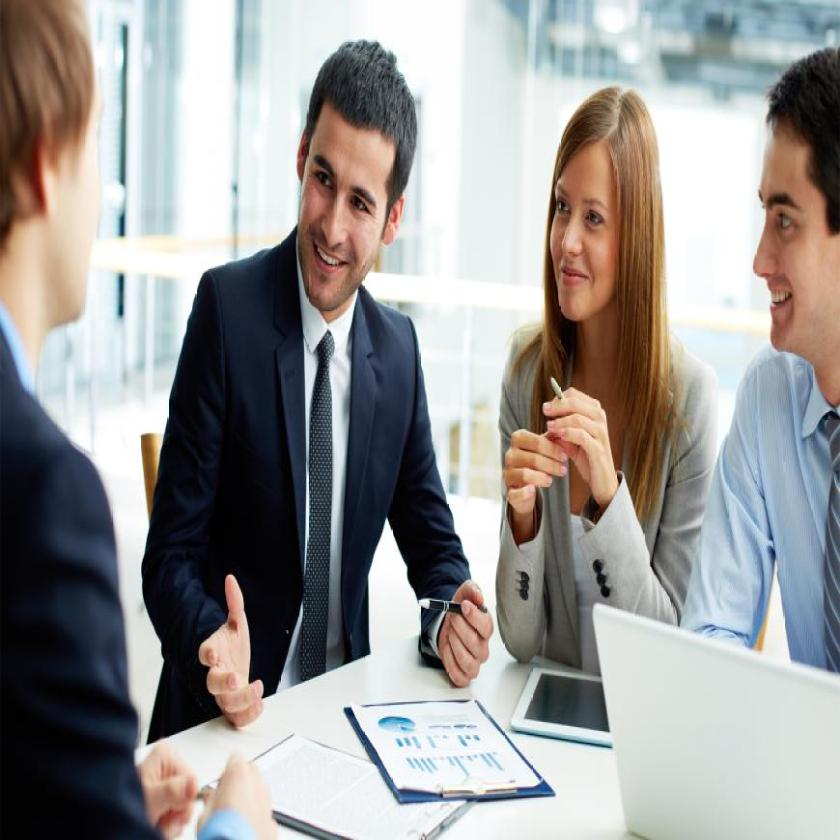Sin_casco: (0, 0, 107, 341), (305, 40, 423, 338), (539, 79, 662, 336), (748, 39, 840, 369)
